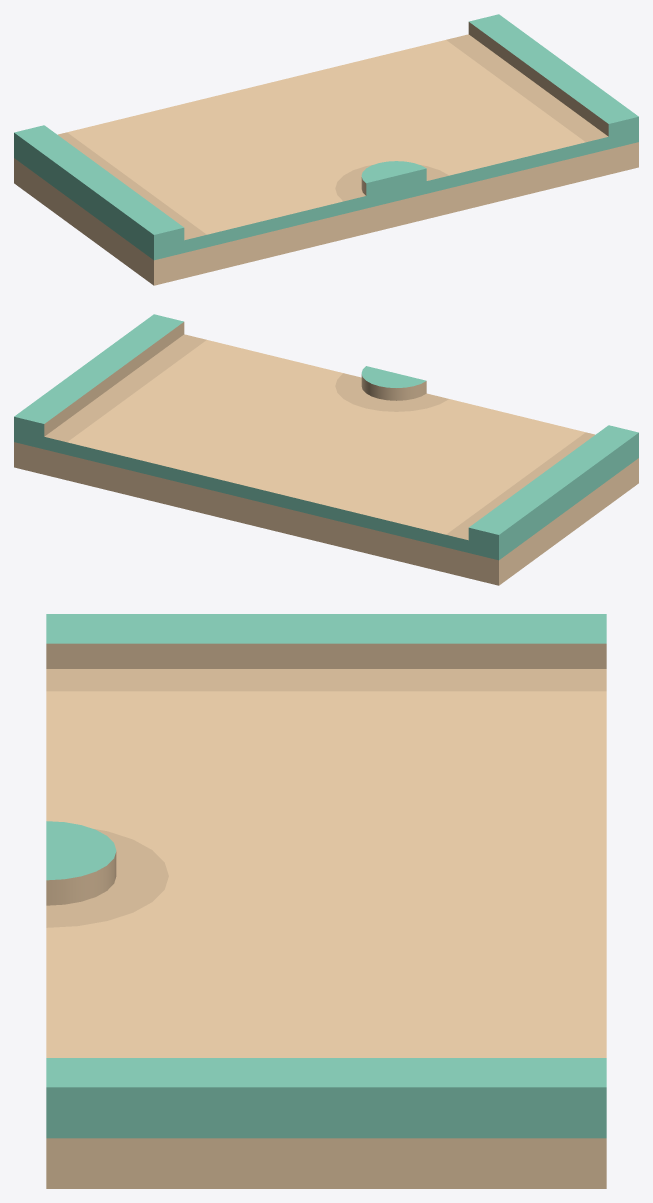
Rendered from tile_wideSplit.glb.
3 renders of one model, top to bottom at view 1: azimuth 30°, elevation 25°; view 2: azimuth 150°, elevation 25°; view 3: azimuth 270°, elevation 25°, orthographic. The views are drawn at different scales.
Parts seen in each view (by area): view 1: tile_wideSplit; view 2: tile_wideSplit; view 3: tile_wideSplit.
Part boxes in pixels (box(x1,y1,x2,y2)): tile_wideSplit: box(14, 14, 638, 285); tile_wideSplit: box(14, 314, 638, 585); tile_wideSplit: box(46, 614, 606, 1188).
Size of the model in its own units: 2 by 0.2 by 1.
